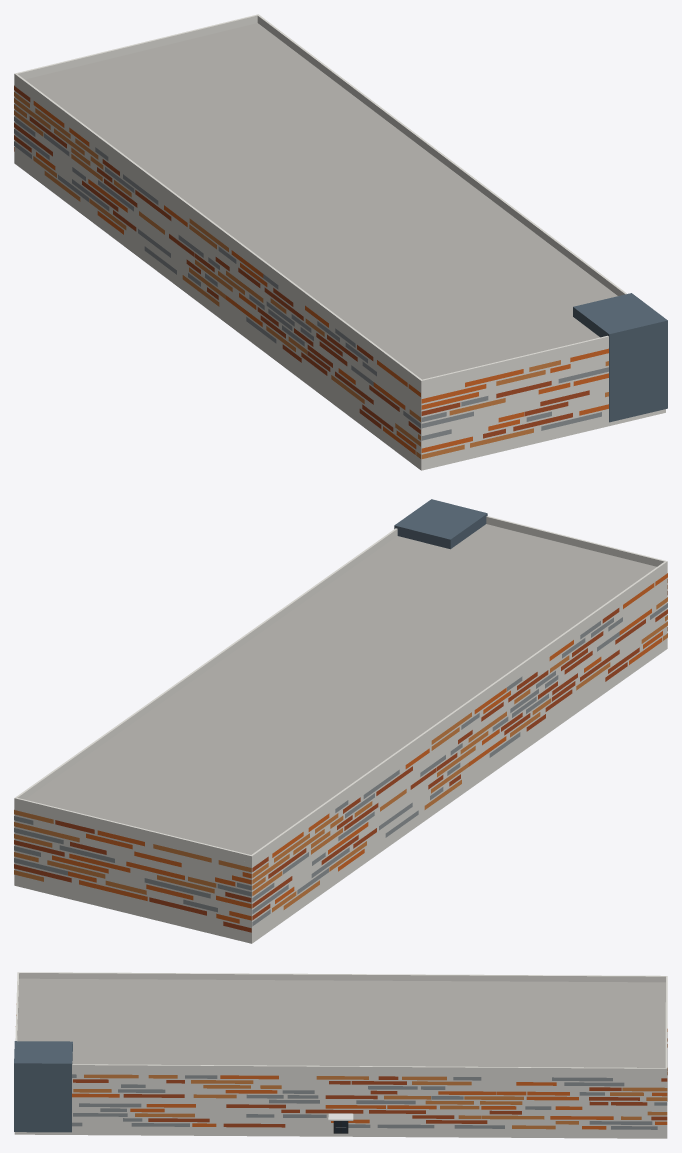
File: reasearch_operations_center_west.glb
3 views of the same model, one above another, from view 1: azimuth 30°, elevation 25°; view 2: azimuth 150°, elevation 25°; view 3: azimuth 270°, elevation 25° (orthographic). The views are drawn at different scales.
Parts seen in each view (by area): view 1: reasearch_operations_center_west_Roof_Membrane, reasearch_operations_center_west_Wall_whiteStucco, reasearch_operations_center_west_EndBlock_Metal, reasearch_operations_center_west_Stripe_b5532a, reasearch_operations_center_west_Stripe_d98a4a, reasearch_operations_center_west_Stripe_9aa0a3, reasearch_operations_center_west_Stripe_e2702a; view 2: reasearch_operations_center_west_Roof_Membrane, reasearch_operations_center_west_Wall_whiteStucco, reasearch_operations_center_west_Stripe_d98a4a, reasearch_operations_center_west_Stripe_b5532a, reasearch_operations_center_west_Stripe_9aa0a3, reasearch_operations_center_west_Stripe_e2702a, reasearch_operations_center_west_EndBlock_Metal; view 3: reasearch_operations_center_west_Roof_Membrane, reasearch_operations_center_west_Wall_whiteStucco, reasearch_operations_center_west_EndBlock_Metal, reasearch_operations_center_west_Stripe_9aa0a3, reasearch_operations_center_west_Stripe_d98a4a, reasearch_operations_center_west_Stripe_b5532a, reasearch_operations_center_west_Stripe_e2702a.
Part boxes in pixels (x1,y1,x2,y2): reasearch_operations_center_west_Roof_Membrane: [25, 23, 617, 379]; reasearch_operations_center_west_Wall_whiteStucco: [14, 14, 665, 470]; reasearch_operations_center_west_EndBlock_Metal: [573, 293, 667, 422]; reasearch_operations_center_west_Stripe_b5532a: [14, 86, 589, 438]; reasearch_operations_center_west_Stripe_d98a4a: [14, 92, 608, 458]; reasearch_operations_center_west_Stripe_9aa0a3: [14, 117, 608, 440]; reasearch_operations_center_west_Stripe_e2702a: [33, 101, 608, 454]; reasearch_operations_center_west_Roof_Membrane: [25, 524, 656, 854]; reasearch_operations_center_west_Wall_whiteStucco: [14, 516, 667, 943]; reasearch_operations_center_west_Stripe_d98a4a: [14, 597, 667, 912]; reasearch_operations_center_west_Stripe_b5532a: [14, 591, 667, 932]; reasearch_operations_center_west_Stripe_9aa0a3: [14, 603, 667, 926]; reasearch_operations_center_west_Stripe_e2702a: [52, 573, 667, 923]; reasearch_operations_center_west_EndBlock_Metal: [394, 499, 487, 549]; reasearch_operations_center_west_Roof_Membrane: [17, 978, 665, 1067]; reasearch_operations_center_west_Wall_whiteStucco: [14, 972, 667, 1138]; reasearch_operations_center_west_EndBlock_Metal: [14, 1041, 72, 1132]; reasearch_operations_center_west_Stripe_9aa0a3: [72, 1074, 667, 1129]; reasearch_operations_center_west_Stripe_d98a4a: [15, 1026, 667, 1129]; reasearch_operations_center_west_Stripe_b5532a: [73, 1076, 667, 1127]; reasearch_operations_center_west_Stripe_e2702a: [16, 1015, 667, 1129].
Bounding box in the file's own units: 33.63 × 11.2 × 92.23.
